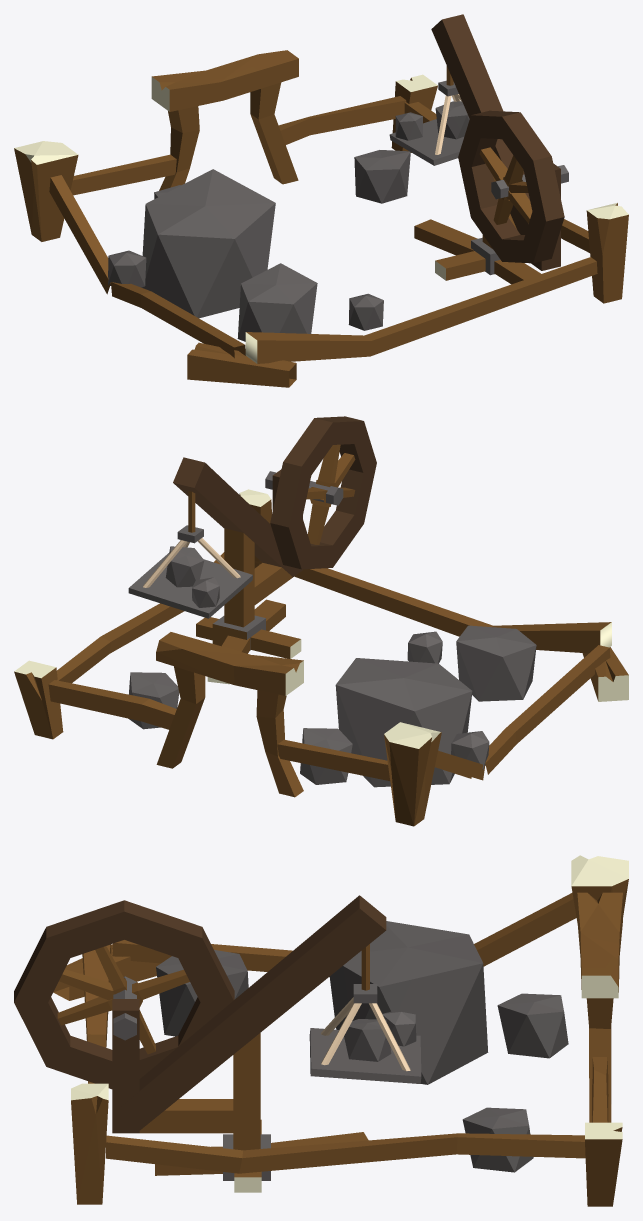
File: RESERVE PIERRE 3.fbx
3 renders of one model, top to bottom at view 1: azimuth 30°, elevation 25°; view 2: azimuth 150°, elevation 25°; view 3: azimuth 270°, elevation 25°, orthographic. The views are drawn at different scales.
Parts seen in each view (by area): view 1: Stone_1.014; view 2: Stone_1.014; view 3: Stone_1.014.
Part boxes in pixels (x1,y1,x2,y2): Stone_1.014: (14,14,628,387); Stone_1.014: (14,416,628,826); Stone_1.014: (14,855,628,1206).
Size of the model in its own units: 600 by 315 by 600.
